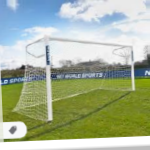goals: (16, 32, 138, 122)
